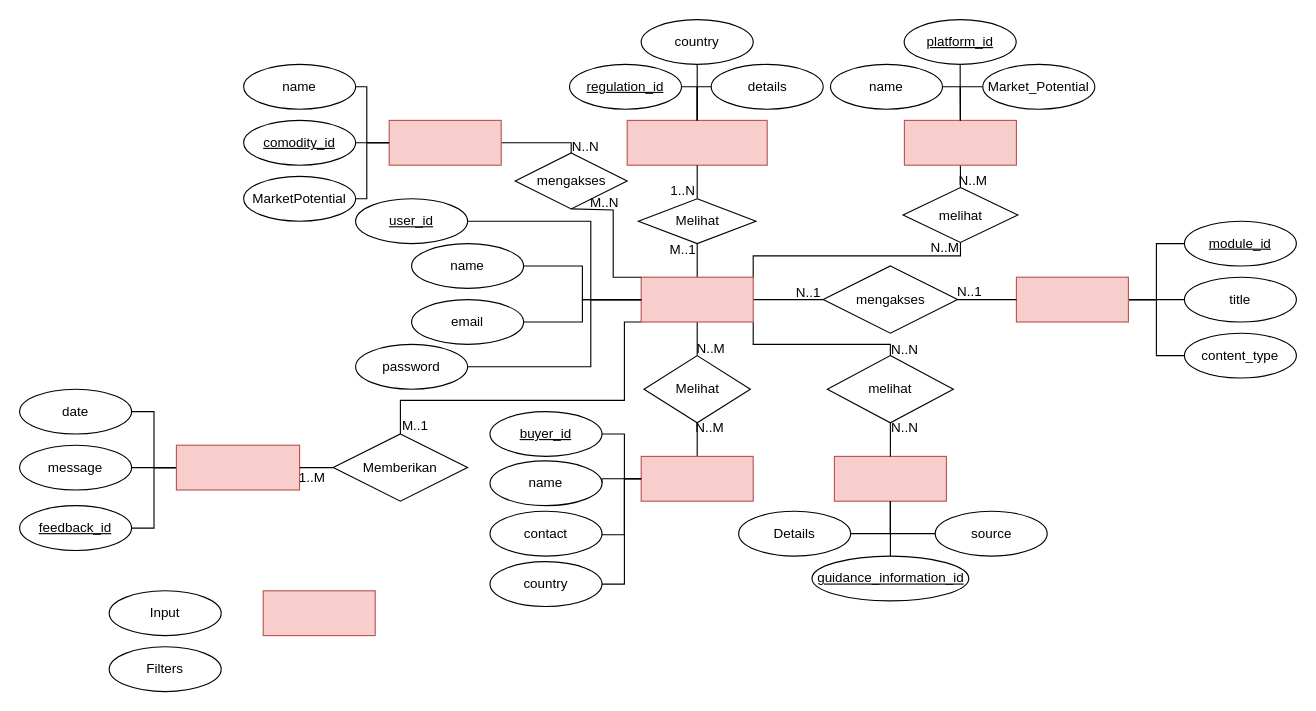
Some shapes in this 1316 by 711 pixel diagram are drawn without their labels. Here are the shapes that lost their labels. From the top down, the centre of each, then its label:
[444,142]: Comodity Selection
[696,142]: RegulationCompliance
[959,142]: Networking Platform
[696,299]: User
[1071,299]: education_module
[237,467]: Feedback&Support
[696,478]: Buyer Information
[889,478]: FinancialGuidance
[318,613]: SearchFilter
